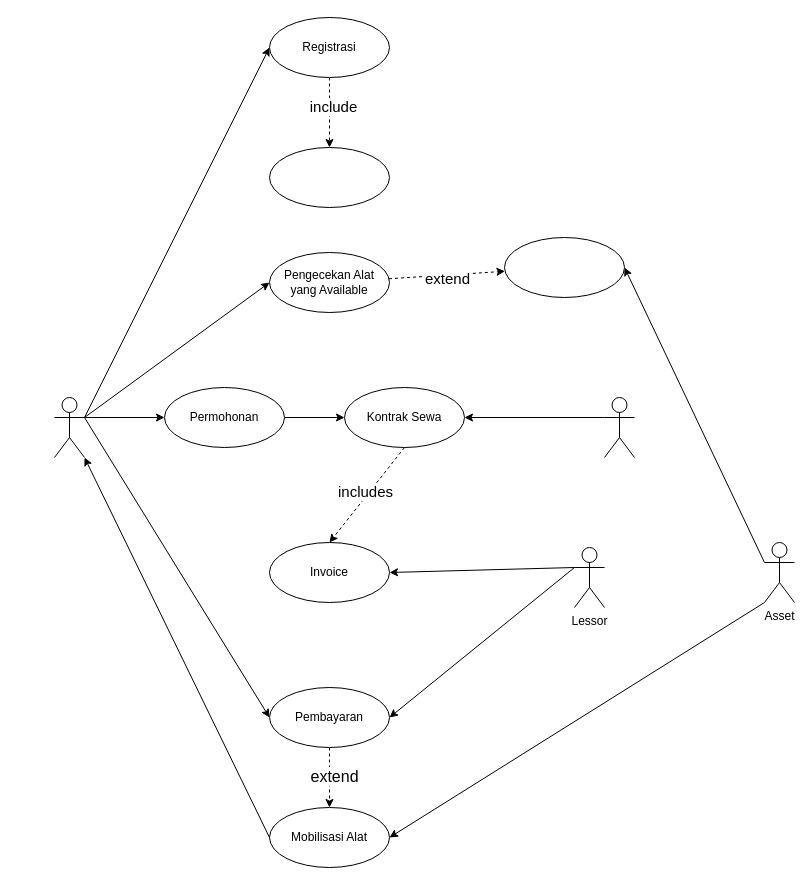
Some shapes in this 812 by 885 pixel diagram are drawn without their labels. The centre of each missing label's shape, as x and y in pixels:
"Legal" goes at (619,427).
"Lessee: ingin menyewa alat berat" goes at (69,427).
"Login" goes at (329,177).
"Mengecek Status Alat" goes at (564,267).
